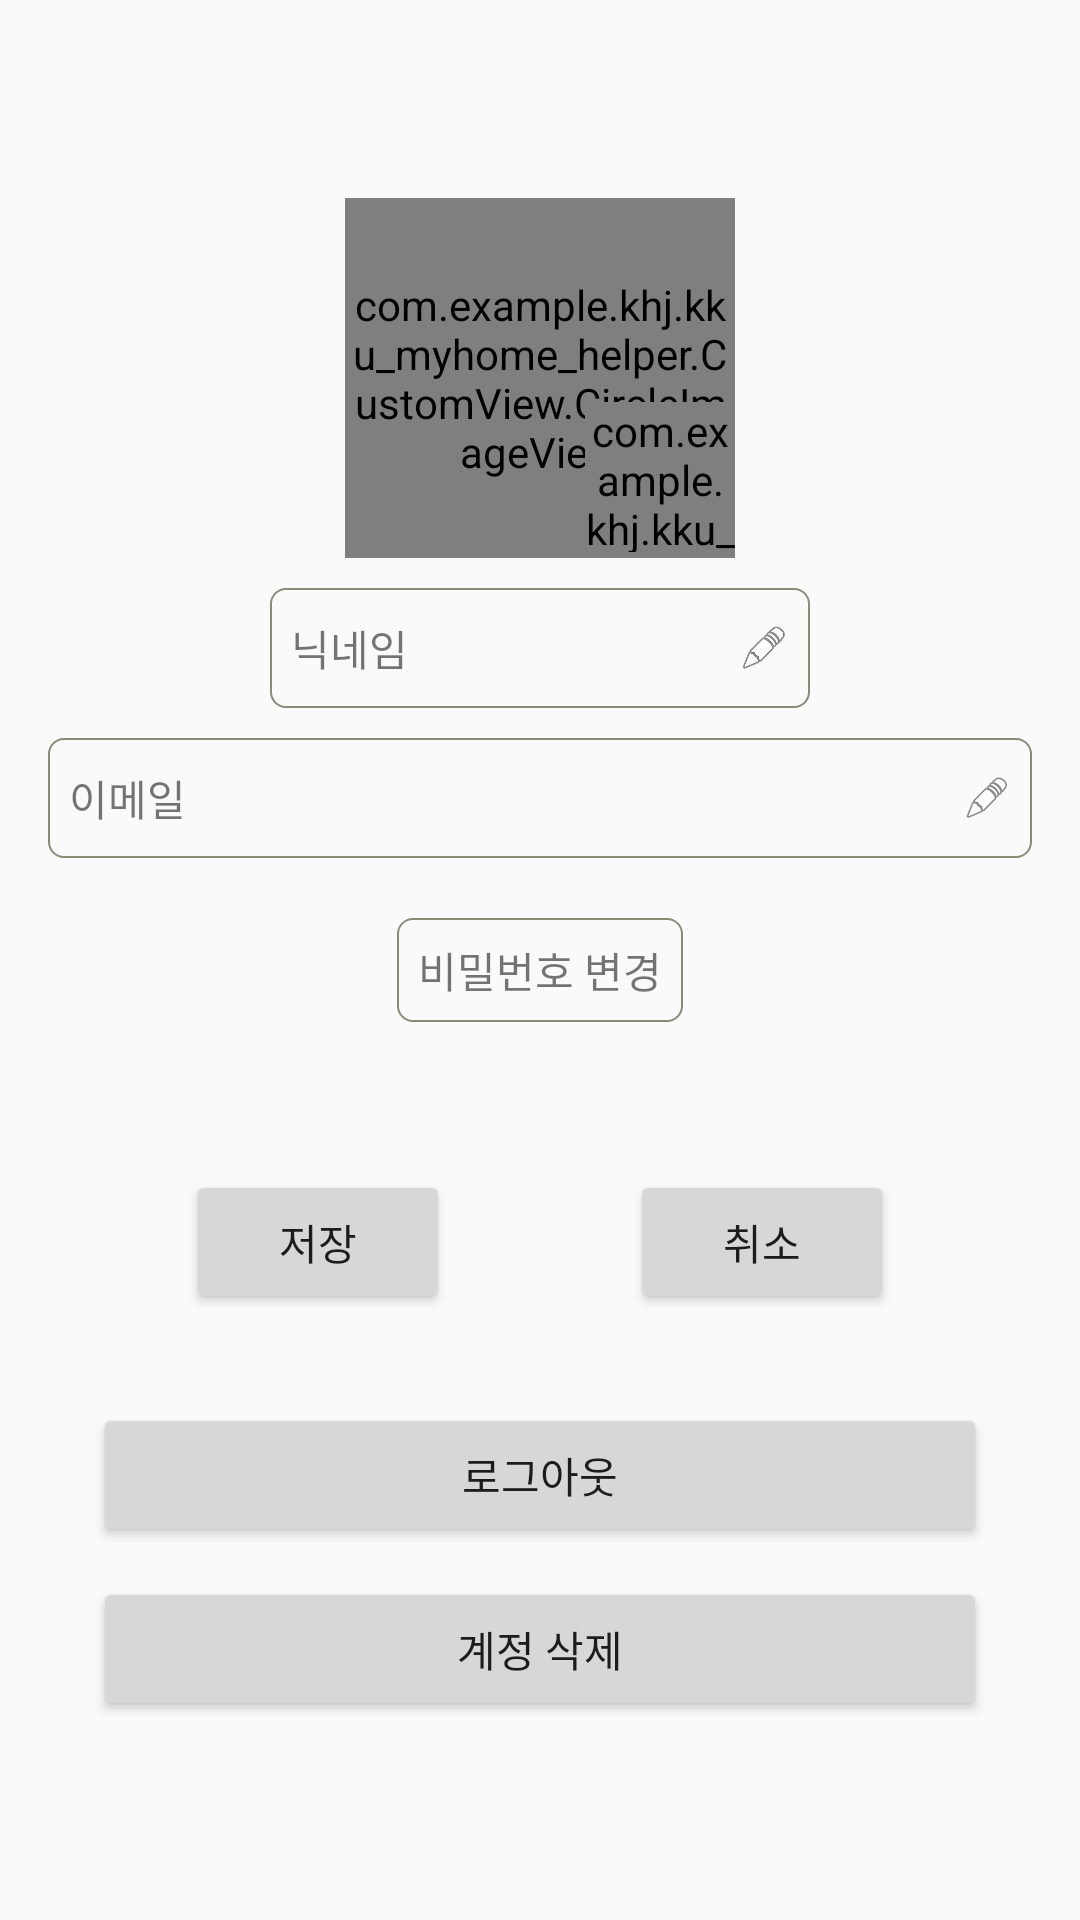

Locate icon controls on the screen. Image size 1080w x 1920h, boxes as (x1, y1, x2, y2).
edit: (743, 626, 785, 669), (966, 777, 1007, 818)
